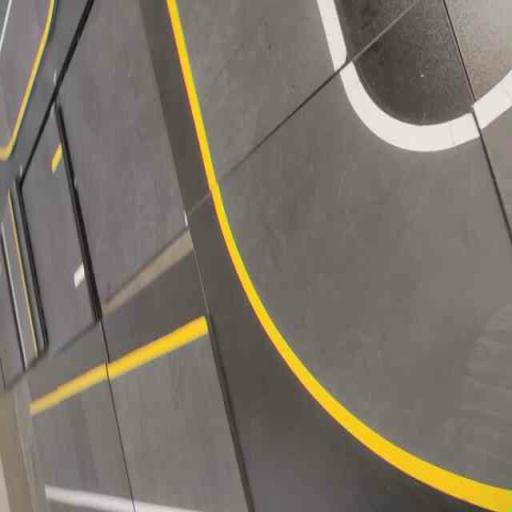left: (315, 55, 482, 507)
